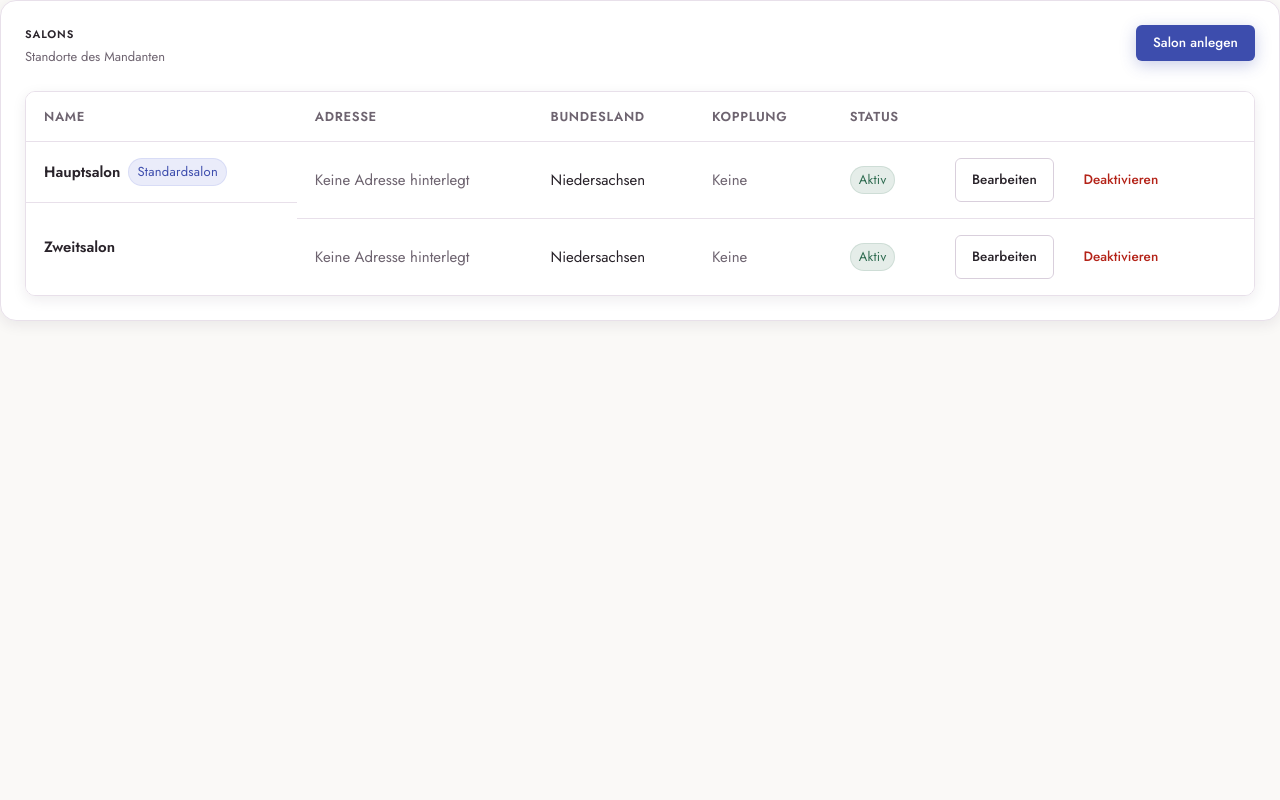
Test: SalonsSection › deactivate and activate › deactivate asks first: a danger dialog names the salon and the consequences
Click the button "Deaktivieren" in the row of "Zweitsalon". click: [1121, 257]
box: [1066,235,1175,279]
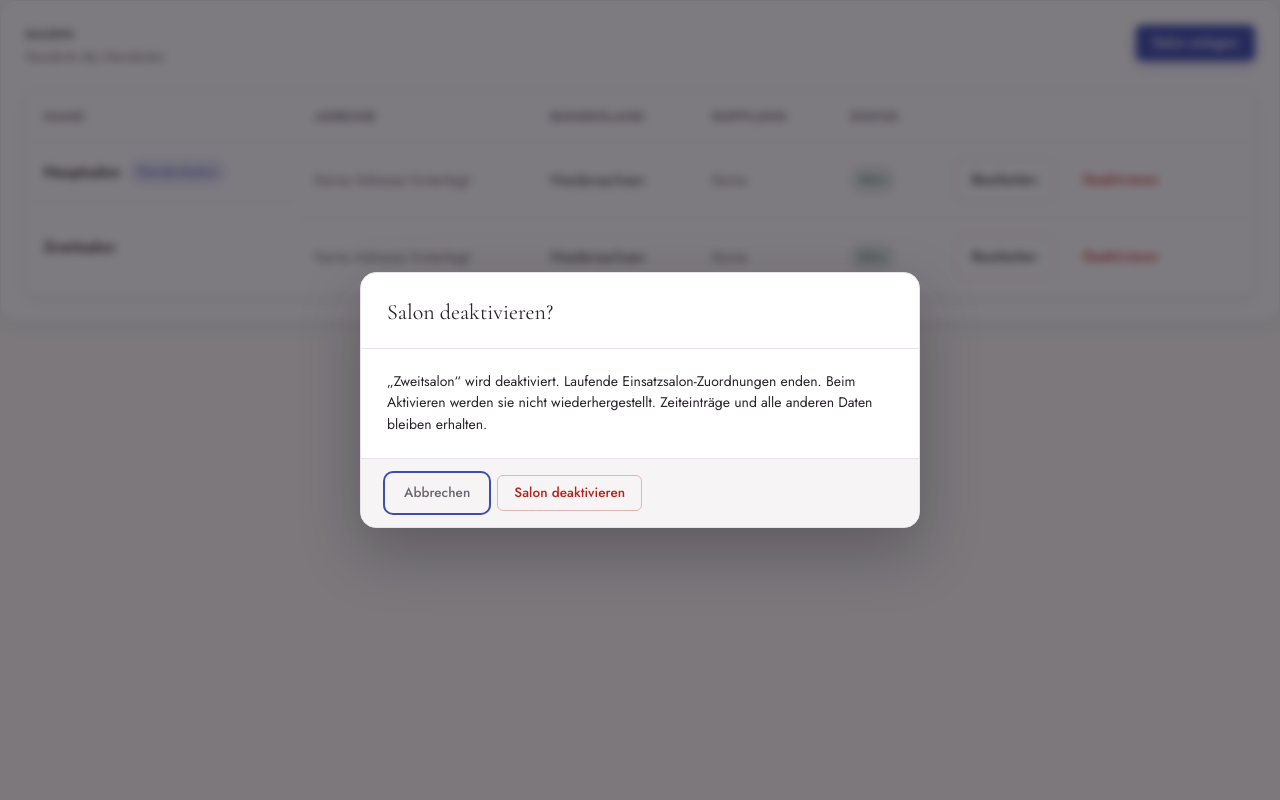
Check: the dialog shows "Salon deaktivieren?", box [387,299,553,325]
Check: the dialog shows "„Zweitsalon“ wird deaktiviert.", box [387,371,872,434]
Check: the dialog shows "Laufende Einsatzsalon-Zuordnungen enden.", box [387,371,872,434]
